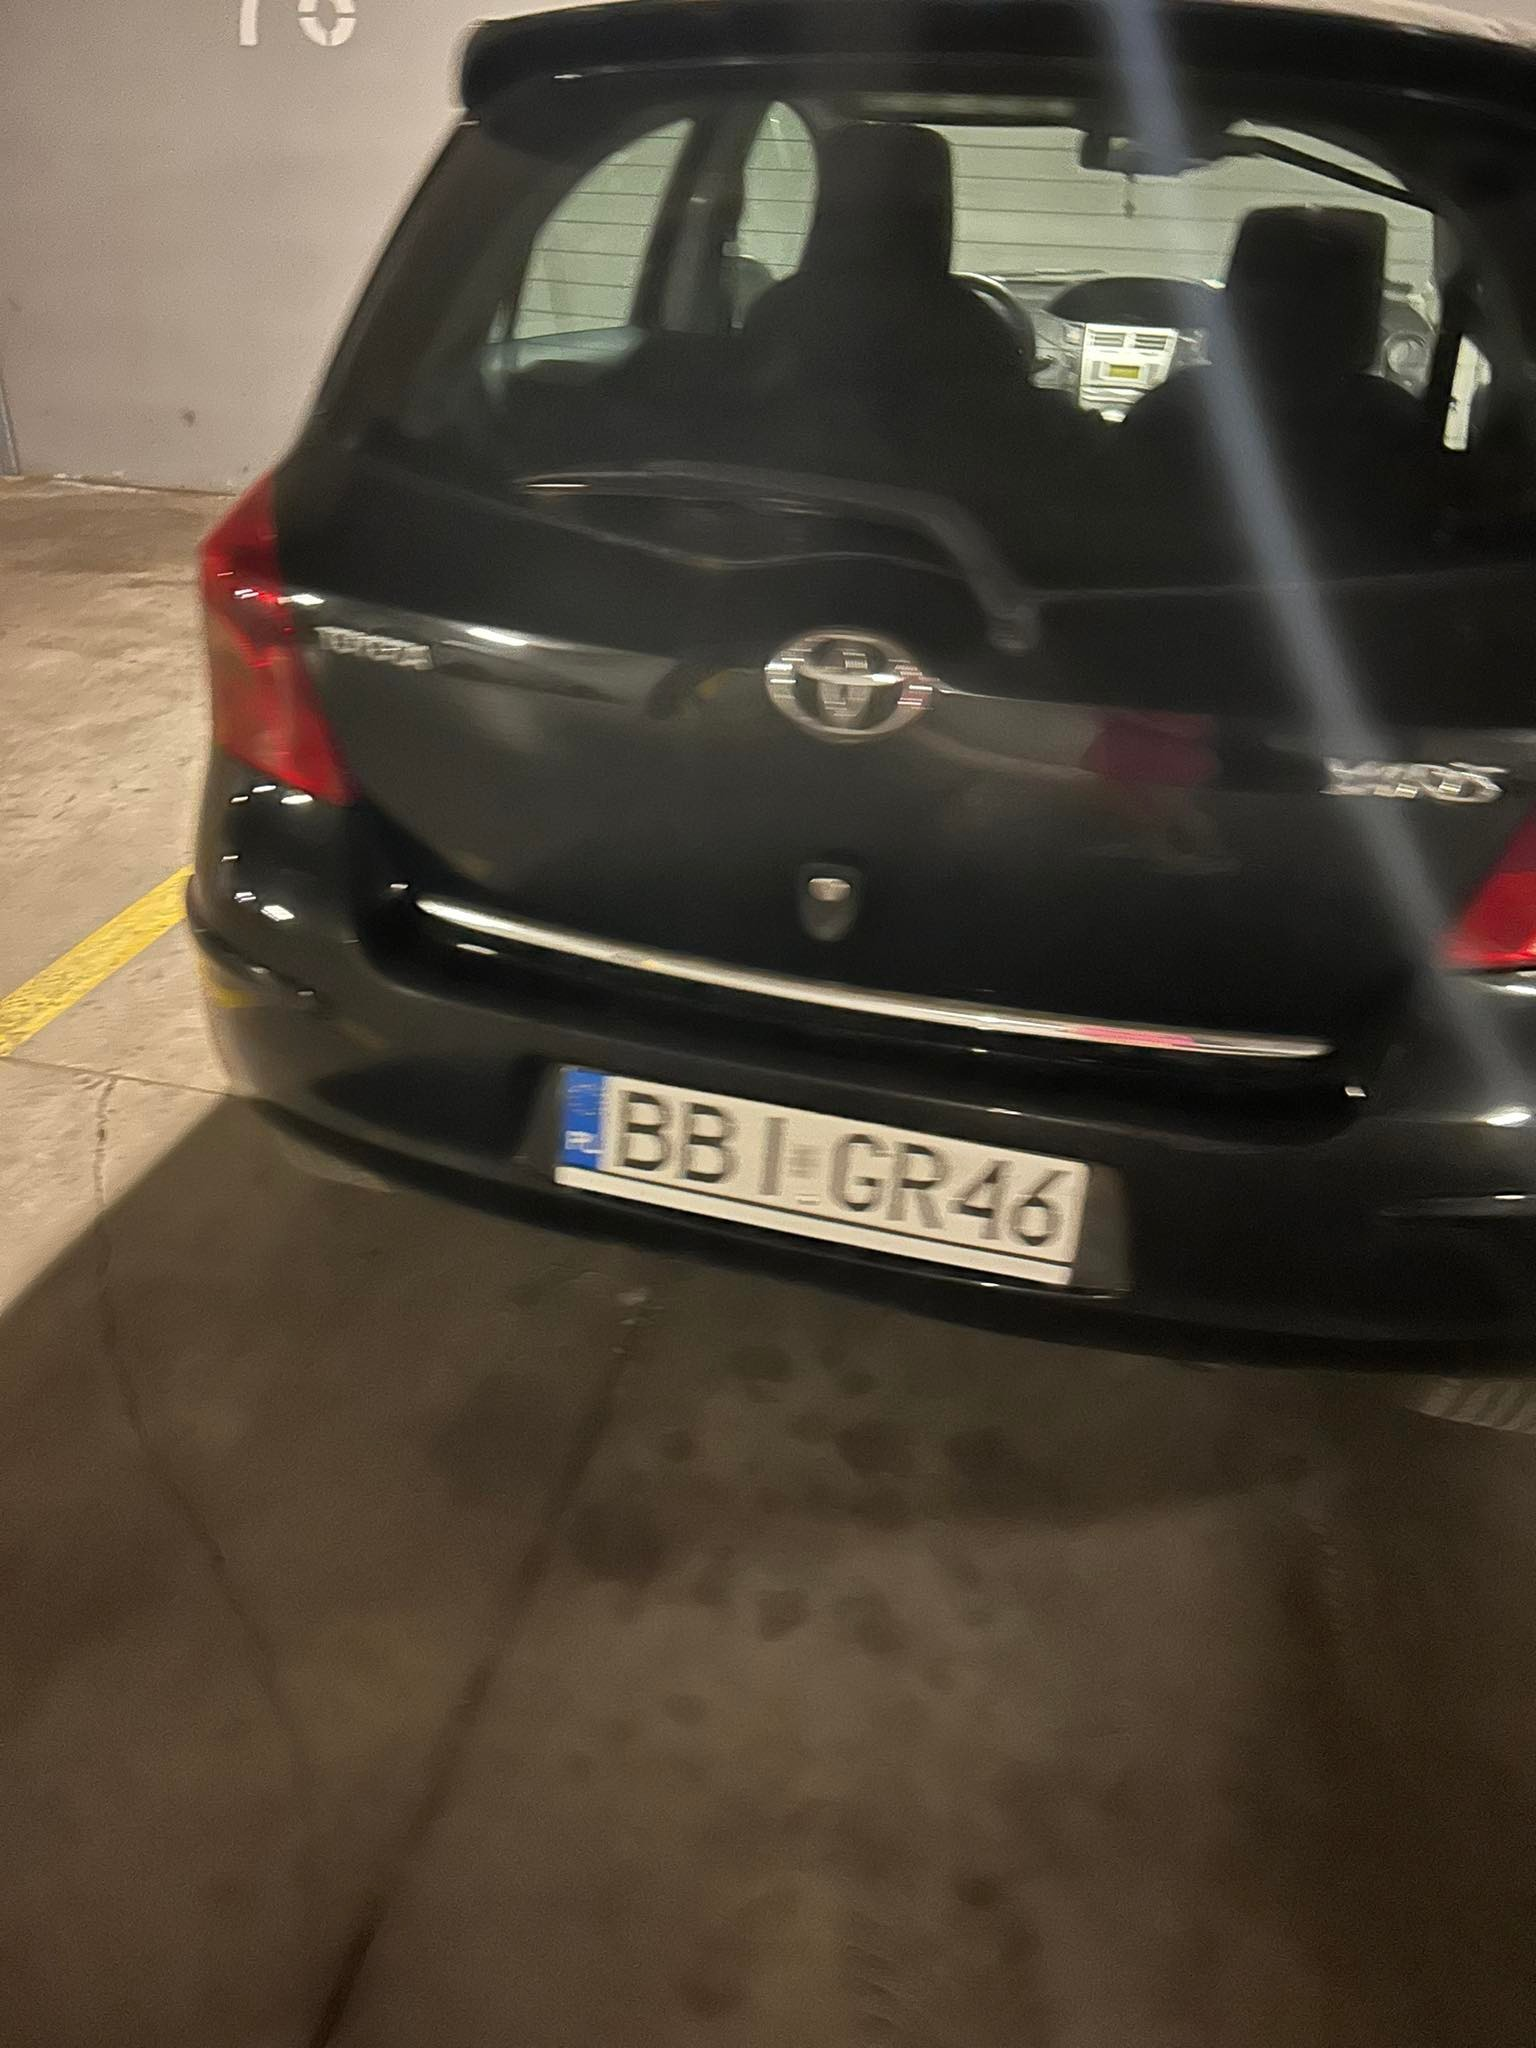number_plate: (554, 1054, 1090, 1310)
